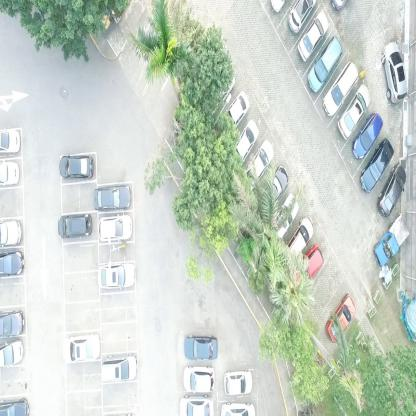car: (336, 82, 372, 141), (307, 35, 343, 93), (322, 61, 359, 117), (359, 135, 394, 194), (373, 215, 410, 267), (296, 10, 330, 64), (382, 37, 408, 103), (291, 242, 325, 292), (378, 161, 408, 217), (352, 110, 384, 159), (244, 138, 275, 188), (270, 192, 300, 242), (324, 294, 356, 340), (260, 164, 290, 213), (284, 215, 314, 263), (232, 118, 260, 166), (101, 351, 138, 385), (222, 89, 250, 133), (66, 330, 101, 364), (97, 260, 135, 289), (93, 183, 132, 211), (287, 0, 317, 35), (181, 363, 215, 392), (182, 333, 218, 360), (57, 211, 93, 238), (97, 216, 134, 242), (59, 154, 94, 180), (222, 368, 254, 395), (0, 338, 25, 370), (178, 394, 214, 416), (0, 306, 24, 338), (0, 248, 25, 278), (0, 394, 30, 416), (0, 218, 22, 247), (0, 158, 22, 186), (220, 400, 258, 416), (0, 128, 21, 155)
